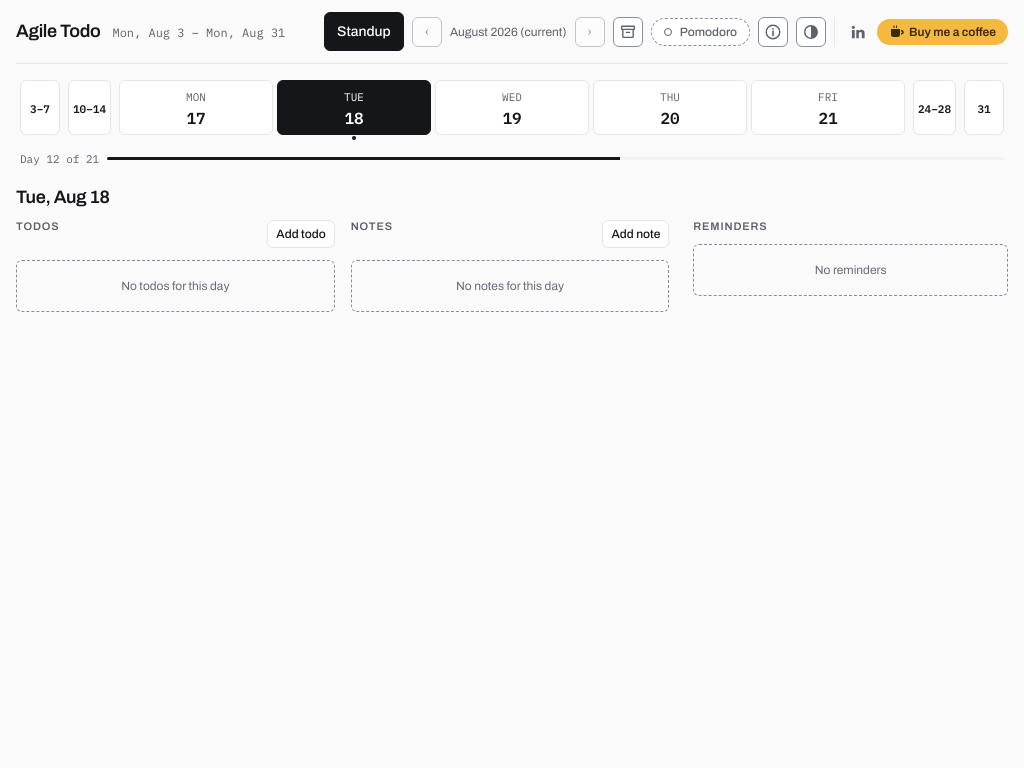
it: help via App entry points › header Help button opens the modal on the Guide tab
Click the button named "Help" at (773, 32), box [758,16,788,46]
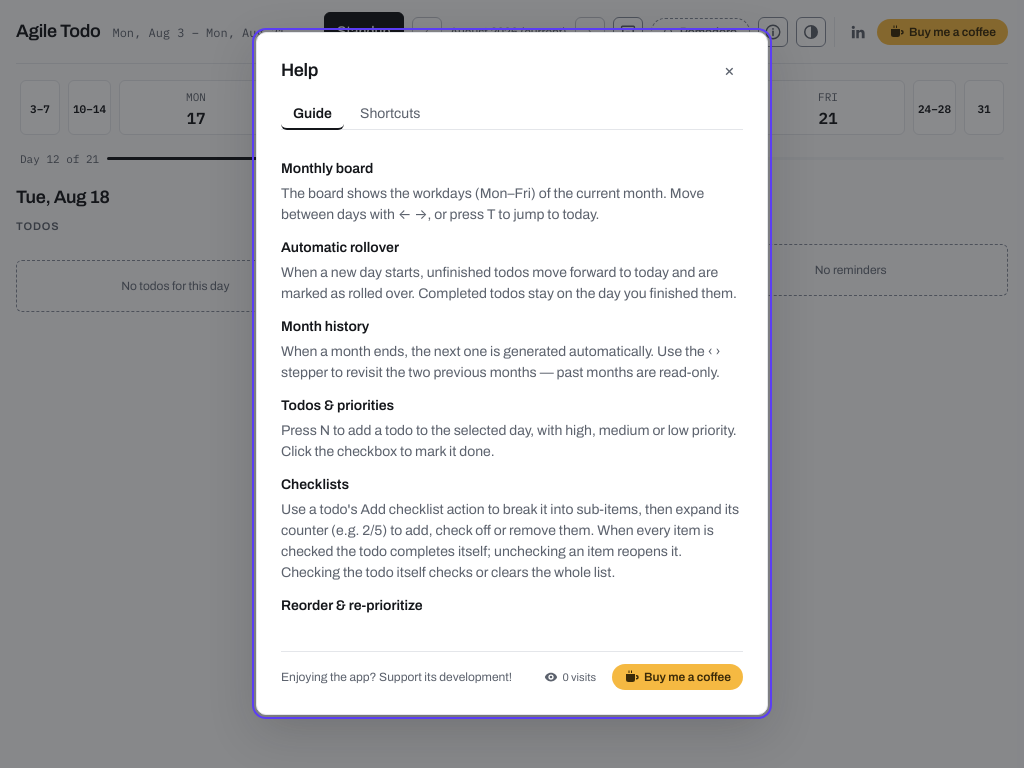
Now the panel shows "Monthly board", box [281,161,373,176]
